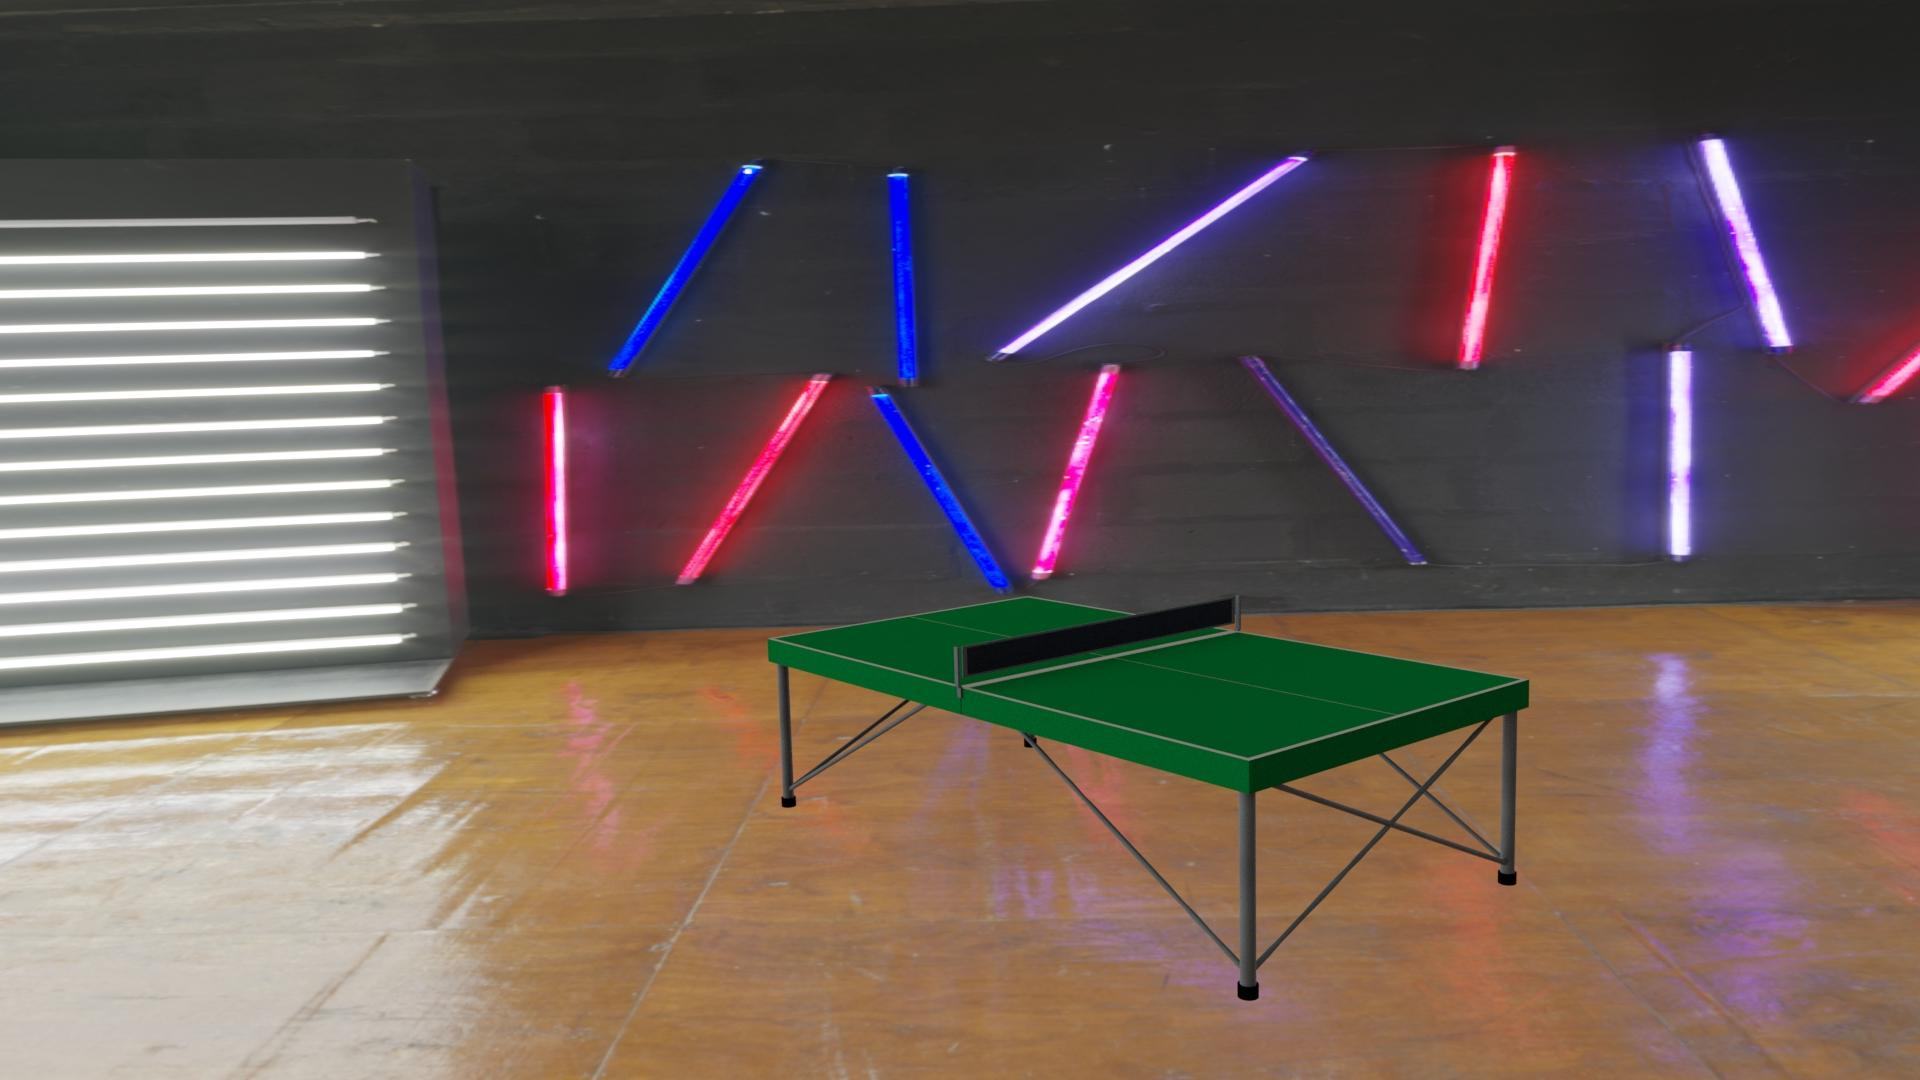table: (774, 597, 1522, 758)
